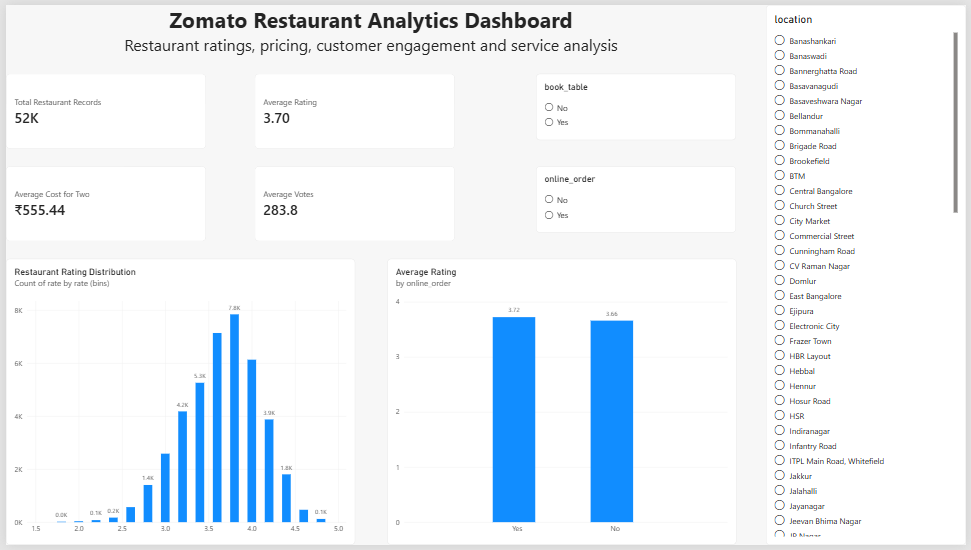

What the dashboard file says about the page in this screenshot:
{"tool":"powerbi","page":{"name":"Overview","canvas":[1920,1080],"ordinal":0},"visuals":[{"type":"cardVisual","fields":{"Data":["zomato_cleaned.Total Restaurant Records"]},"box":[0,137.5,400,150],"z":0},{"type":"cardVisual","fields":{"Data":["zomato_cleaned.Average Cost for Two"]},"box":[0,322.5,400,150],"z":1000},{"type":"cardVisual","fields":{"Data":["zomato_cleaned.Average Rating"]},"box":[497.5,137.5,400,150],"z":2000},{"type":"cardVisual","fields":{"Data":["zomato_cleaned.Average Votes"]},"box":[497.5,322.5,400,150],"z":3000},{"type":"clusteredColumnChart","title":"Restaurant Rating Distribution","fields":{"Category":["zomato_cleaned.rate (bins)"],"Y":["CountNonNull(zomato_cleaned.rate)"]},"box":[0,507.5,698,572],"z":4000},{"type":"clusteredColumnChart","fields":{"Category":["zomato_cleaned.online_order"],"Y":["zomato_cleaned.Average Rating"]},"box":[762.5,507.5,698,572],"z":5000},{"type":"listSlicer","fields":{"Values":["zomato_cleaned.location"]},"box":[1520,0,400,1080],"z":6000},{"type":"listSlicer","fields":{"Values":["zomato_cleaned.online_order"]},"box":[1060,322.5,400,132.5],"z":7000},{"type":"listSlicer","fields":{"Values":["zomato_cleaned.book_table"]},"box":[1060,137.5,400,132.5],"z":8000},{"type":"textbox","box":[0,0,1460,137.5],"z":9000}]}

Visuals, with their boxes in screenshot pixels (x1, y1, x2, y2), scaled from the page's 1920x1080 canvas onto the 971x550 screenshot:
cardVisual - zomato_cleaned.Total Restaurant Records: left=0, top=70, right=202, bottom=146
cardVisual - zomato_cleaned.Average Cost for Two: left=0, top=164, right=202, bottom=241
cardVisual - zomato_cleaned.Average Rating: left=252, top=70, right=454, bottom=146
cardVisual - zomato_cleaned.Average Votes: left=252, top=164, right=454, bottom=241
"Restaurant Rating Distribution" clusteredColumnChart: left=0, top=258, right=353, bottom=549
clusteredColumnChart - zomato_cleaned.online_order x zomato_cleaned.Average Rating: left=386, top=258, right=739, bottom=549
listSlicer - zomato_cleaned.location: left=769, top=0, right=970, bottom=549
listSlicer - zomato_cleaned.online_order: left=536, top=164, right=738, bottom=232
listSlicer - zomato_cleaned.book_table: left=536, top=70, right=738, bottom=138
textbox: left=0, top=0, right=738, bottom=70
